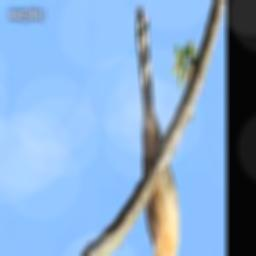Cuckoo: (136, 6, 179, 256)
